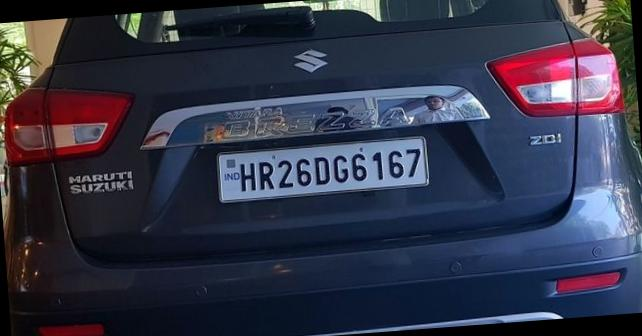plate: (217, 132, 435, 204)
